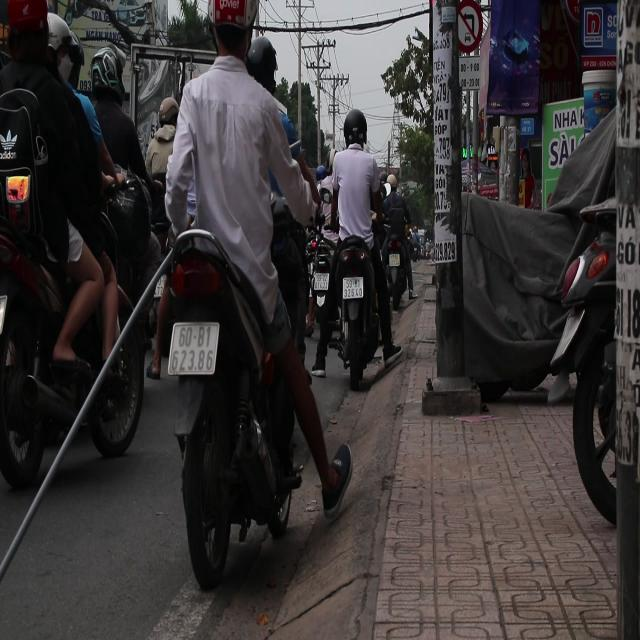motorbike: (160, 220, 308, 559), (0, 263, 153, 477), (318, 224, 388, 389)
